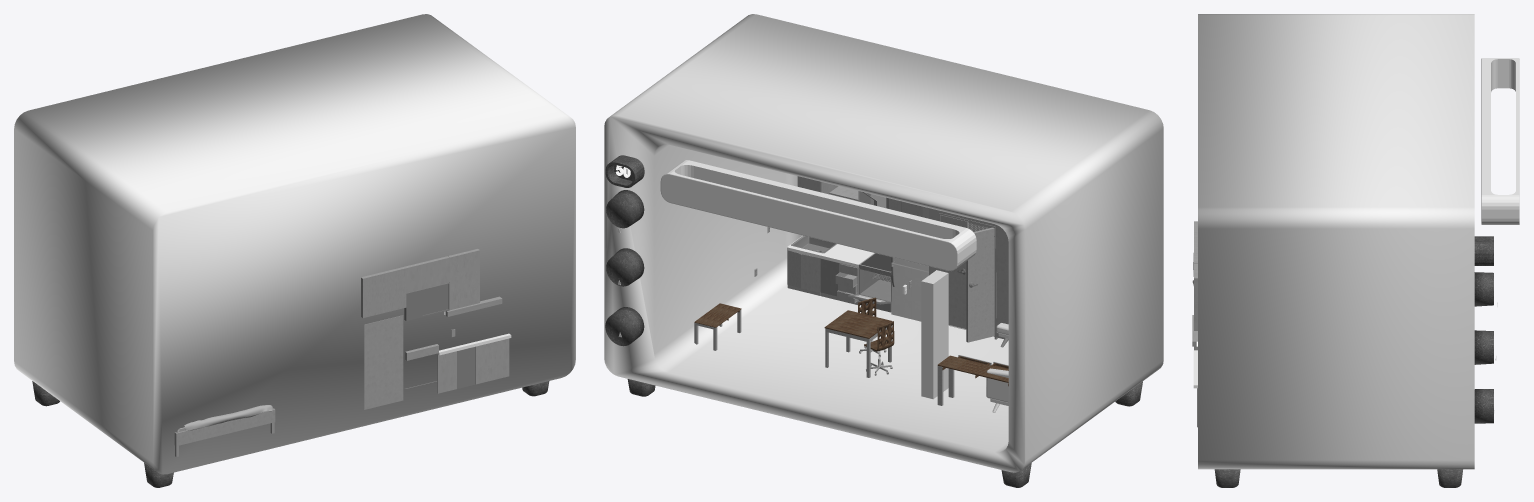
Rendered from 11872_autosave_compressed (7).glb.
The picture shows the model from 3 angles, left to right: view 1: azimuth 30°, elevation 25°; view 2: azimuth 150°, elevation 25°; view 3: azimuth 270°, elevation 25°; orthographic projection.
Parts seen in each view (by area): view 1: Cube, Fridge.002, Shelf.012, Shelf.014, Bed.002, Shelf.010, Microwave.002, Shelf.013, Shelf.011, Sheet Top.002, Dishwasher.002; view 2: Cube, Cube.002, Cube.009, Closet Door 1.002, Closet.002, Table 1.002, Bottom Door.002, Closet Door 2.002, Stove.008, Desk 1.002, Cylinder.003, Cylinder.002 (+7 smaller); view 3: Cube, Cube.002, Cylinder.003, Cylinder.002, Cylinder.005, Cube.003, Cube.014, Cube.016.
Boxes of the visible parts, left/top/right/bottom form: Cube: left=14, top=14, right=575, bottom=474; Fridge.002: left=364, top=315, right=403, bottom=409; Shelf.012: left=361, top=267, right=406, bottom=317; Shelf.014: left=448, top=249, right=479, bottom=310; Bed.002: left=174, top=408, right=275, bottom=456; Shelf.010: left=475, top=338, right=509, bottom=384; Microwave.002: left=404, top=283, right=449, bottom=320; Shelf.013: left=404, top=256, right=449, bottom=292; Shelf.011: left=437, top=351, right=456, bottom=393; Sheet Top.002: left=184, top=405, right=273, bottom=430; Dishwasher.002: left=457, top=346, right=475, bottom=388; Cube: left=604, top=14, right=1163, bottom=472; Cube.002: left=660, top=160, right=976, bottom=270; Cube.009: left=921, top=270, right=948, bottom=399; Closet Door 1.002: left=966, top=227, right=994, bottom=342; Closet.002: left=929, top=208, right=1008, bottom=339; Table 1.002: left=824, top=310, right=892, bottom=377; Bottom Door.002: left=891, top=263, right=928, bottom=321; Closet Door 2.002: left=940, top=215, right=968, bottom=328; Stove.008: left=858, top=253, right=891, bottom=301; Desk 1.002: left=937, top=355, right=1008, bottom=405; Cylinder.003: left=605, top=307, right=644, bottom=346; Cylinder.002: left=606, top=190, right=644, bottom=228; Cube: left=1198, top=14, right=1474, bottom=469; Cube.002: left=1481, top=58, right=1519, bottom=224; Cylinder.003: left=1474, top=389, right=1493, bottom=423; Cylinder.002: left=1474, top=272, right=1493, bottom=306; Cylinder.005: left=1474, top=330, right=1493, bottom=364; Cube.003: left=1474, top=236, right=1493, bottom=265; Cube.014: left=1437, top=469, right=1462, bottom=487; Cube.016: left=1214, top=469, right=1240, bottom=487.
Bounding box in the file's own units: 3.51 × 2.26 × 2.36.
23 materials, 15 textured.
